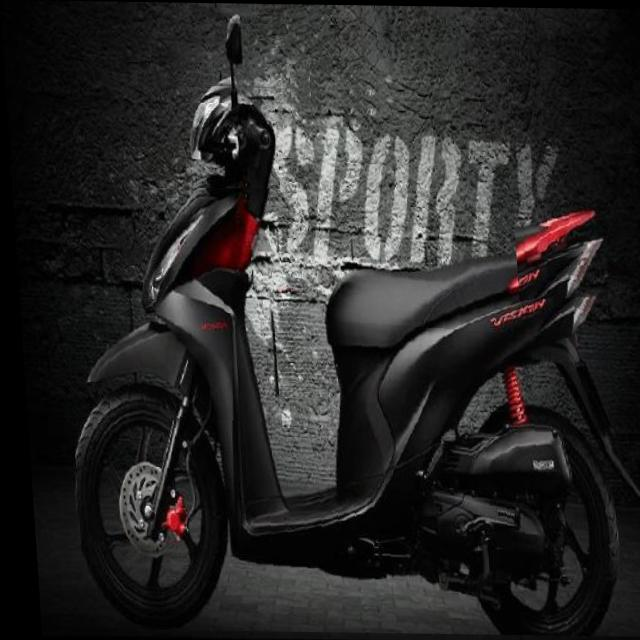All: (49, 71, 640, 635)
Head: (174, 85, 278, 188)
Tail: (510, 198, 610, 299)
